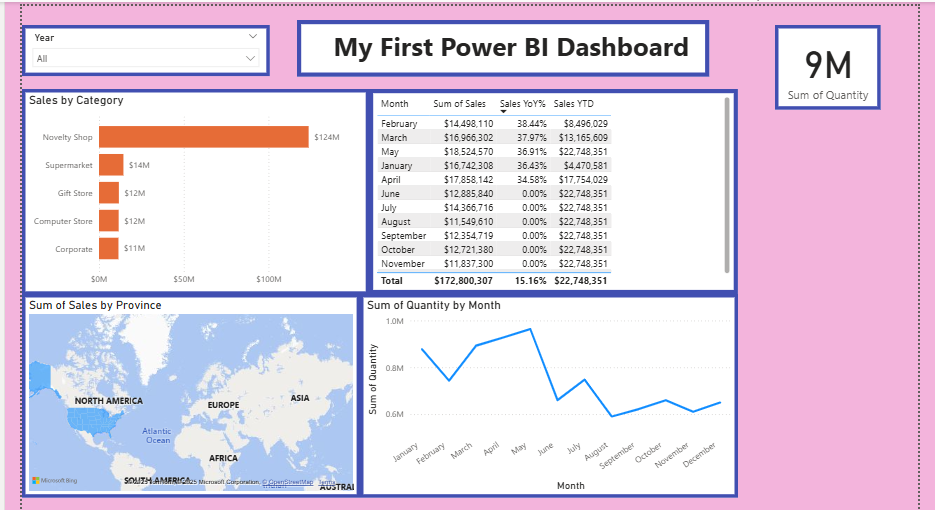

The page's visual inventory and layout, read from the dashboard file:
{"tool":"powerbi","page":{"name":"Page 1","canvas":[1280,720],"ordinal":0},"visuals":[{"type":"clusteredBarChart","title":"Sales by Category","fields":{"Category":["MasterCustomer1.CustomerCategoryName"],"Y":["Sum(InvoiceData.Sales)"]},"box":[0,118.6,495.7,294.3],"z":0},{"type":"slicer","fields":{"Values":["InvoiceData.Date.Variation.Date Hierarchy.Year"]},"box":[0,27.1,354.3,72.9],"z":1000},{"type":"tableEx","fields":{"Values":["InvoiceData.Date.Variation.Date Hierarchy.Month","Sum(InvoiceData.Sales)","InvoiceData.Sum of Sales YoY% 6","InvoiceData.Sum of Sales YTD"]},"box":[495.7,118.6,527.1,292.9],"z":2000},{"type":"filledMap","fields":{"Category":["MasterCustomer1.Province"]},"box":[0,411.4,482.9,291.4],"z":3000},{"type":"lineChart","fields":{"Y":["Sum(InvoiceData.Quantity)"],"Category":["InvoiceData.Date.Variation.Date Hierarchy.Month"]},"box":[482.9,411.4,540,291.4],"z":4000},{"type":"textbox","box":[393.1,20.2,589,80.6],"z":5000},{"type":"card","fields":{"Values":["Sum(InvoiceData.Quantity)"]},"box":[1075.7,27.1,151.4,121.4],"z":6000}]}

Visuals, with their boxes in screenshot pixels (x1, y1, x2, y2):
"Sales by Category" clusteredBarChart: <box>19,85,365,290</box>
slicer - InvoiceData.Date.Variation.Date Hierarchy.Year: <box>19,21,266,72</box>
tableEx - InvoiceData.Date.Variation.Date Hierarchy.Month x Sum(InvoiceData.Sales): <box>365,85,732,289</box>
filledMap - MasterCustomer1.Province: <box>19,289,356,492</box>
lineChart - Sum(InvoiceData.Quantity) x InvoiceData.Date.Variation.Date Hierarchy.Month: <box>356,289,732,492</box>
textbox: <box>293,17,704,73</box>
card - Sum(InvoiceData.Quantity): <box>769,21,875,106</box>
